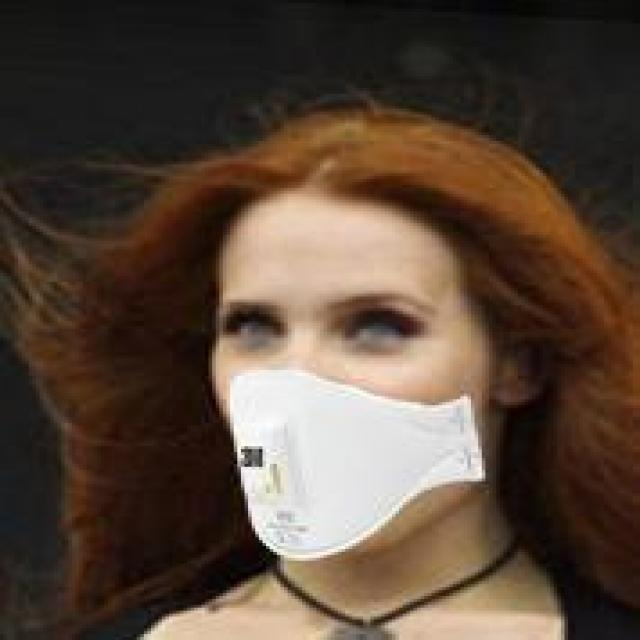mask: (158, 158, 575, 564)
